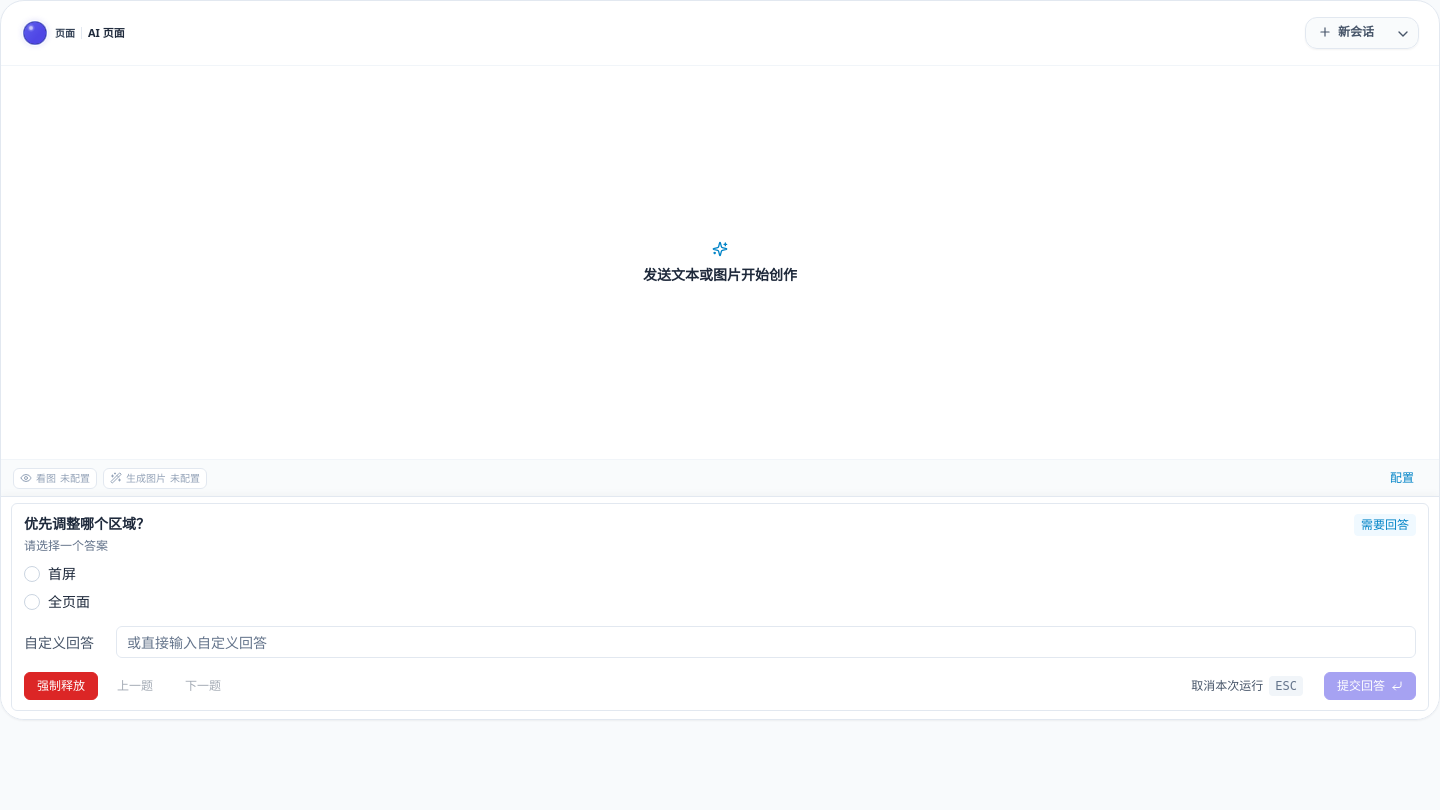
Test: AgentConversationPanel › 结构化提问提交后应隐藏待回答提示并显示已回复状态
Check: the text "优先调整哪个区域？" is shown, box [24, 514, 150, 534]
Check: the button "提交回答" is shown, box [1324, 672, 1416, 700]
Click the text "首屏".
click(62, 574)  # box [48, 564, 76, 584]
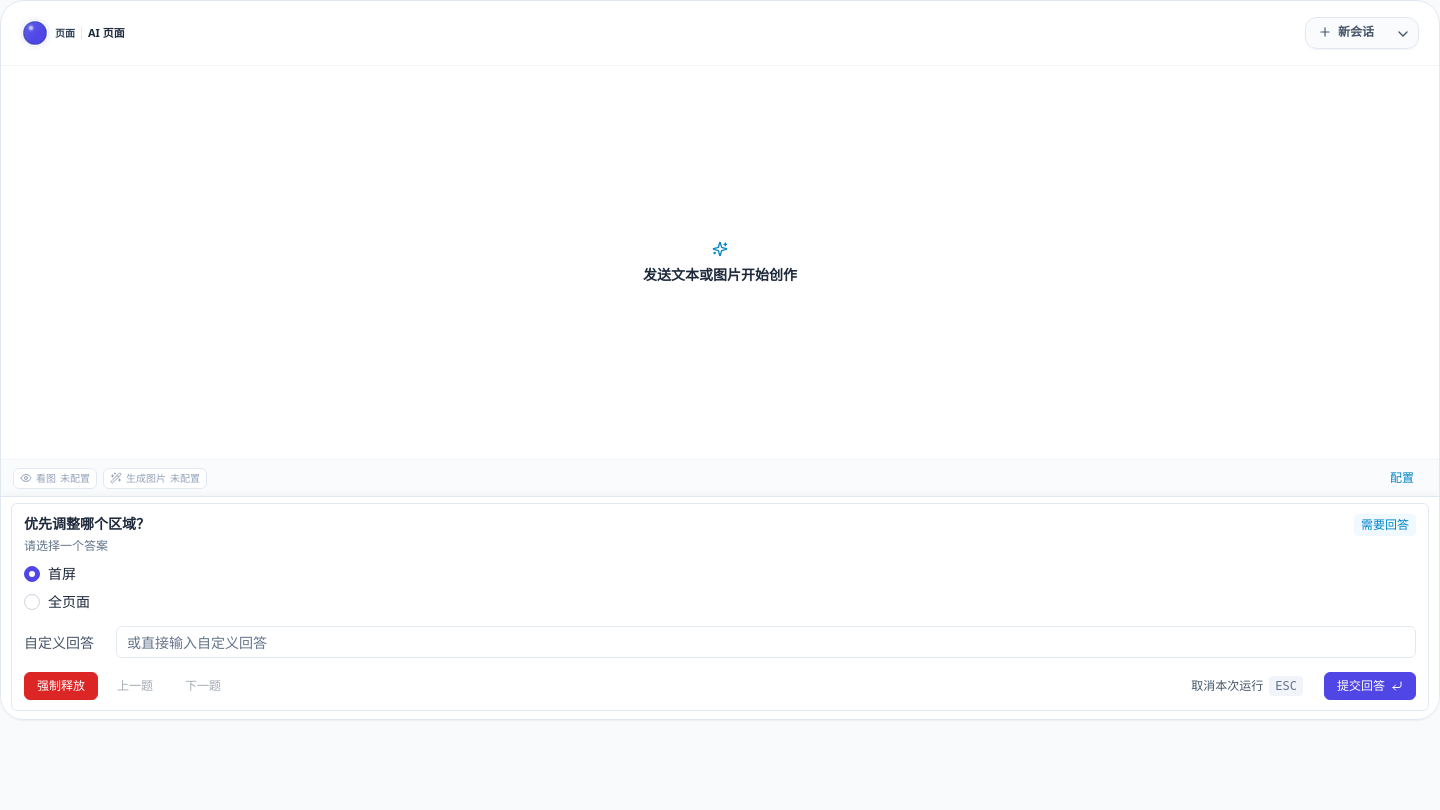
Click the button "提交回答".
click(1370, 686)  # box [1324, 672, 1416, 700]
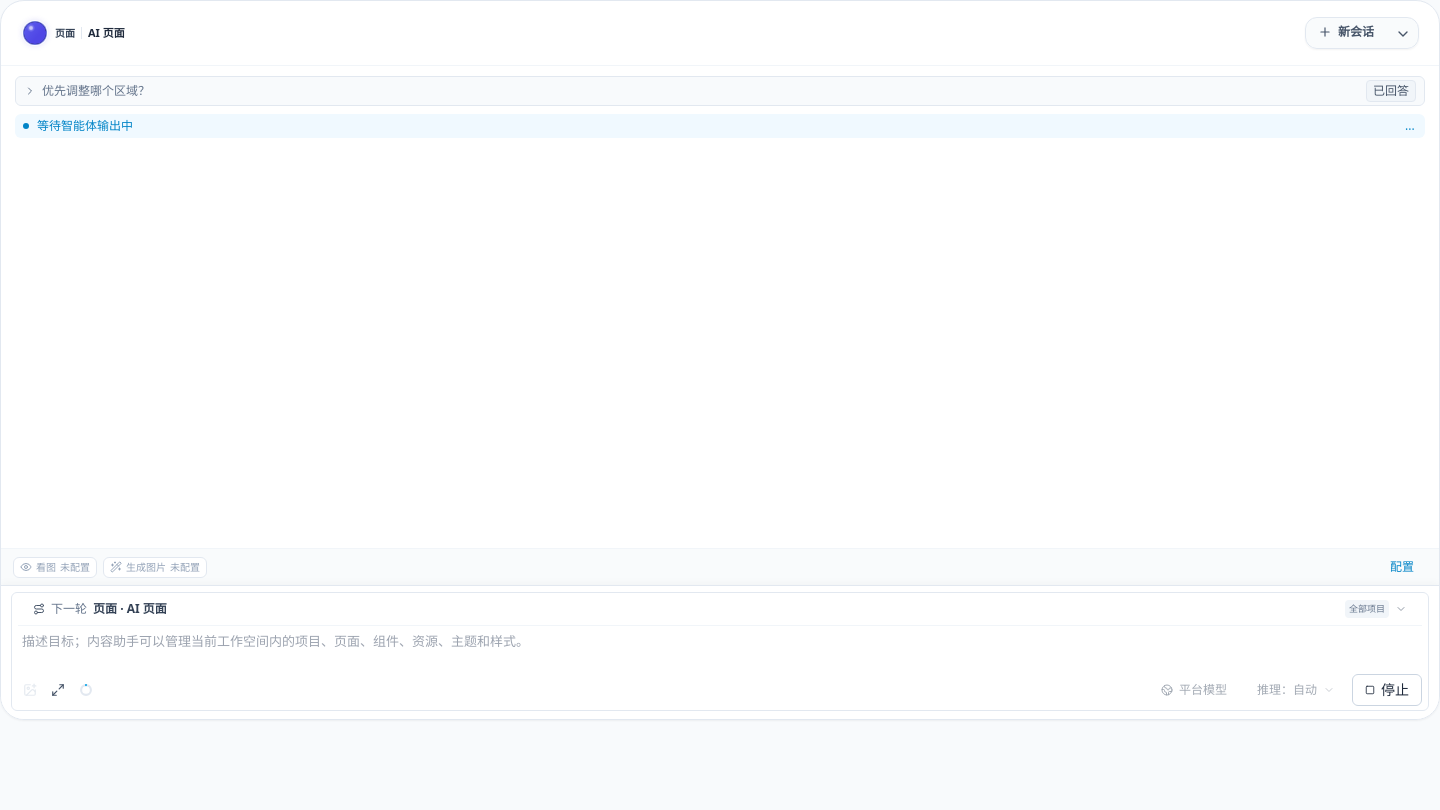
Check: the button "提交回答" is gone
Check: the text "等待智能体输出中" is shown, box [37, 117, 133, 134]
